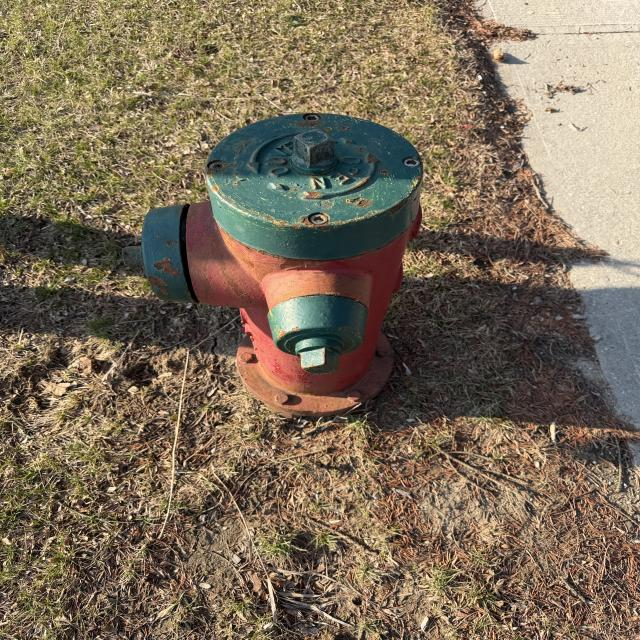Fire hydrant: (120, 112, 424, 420)
